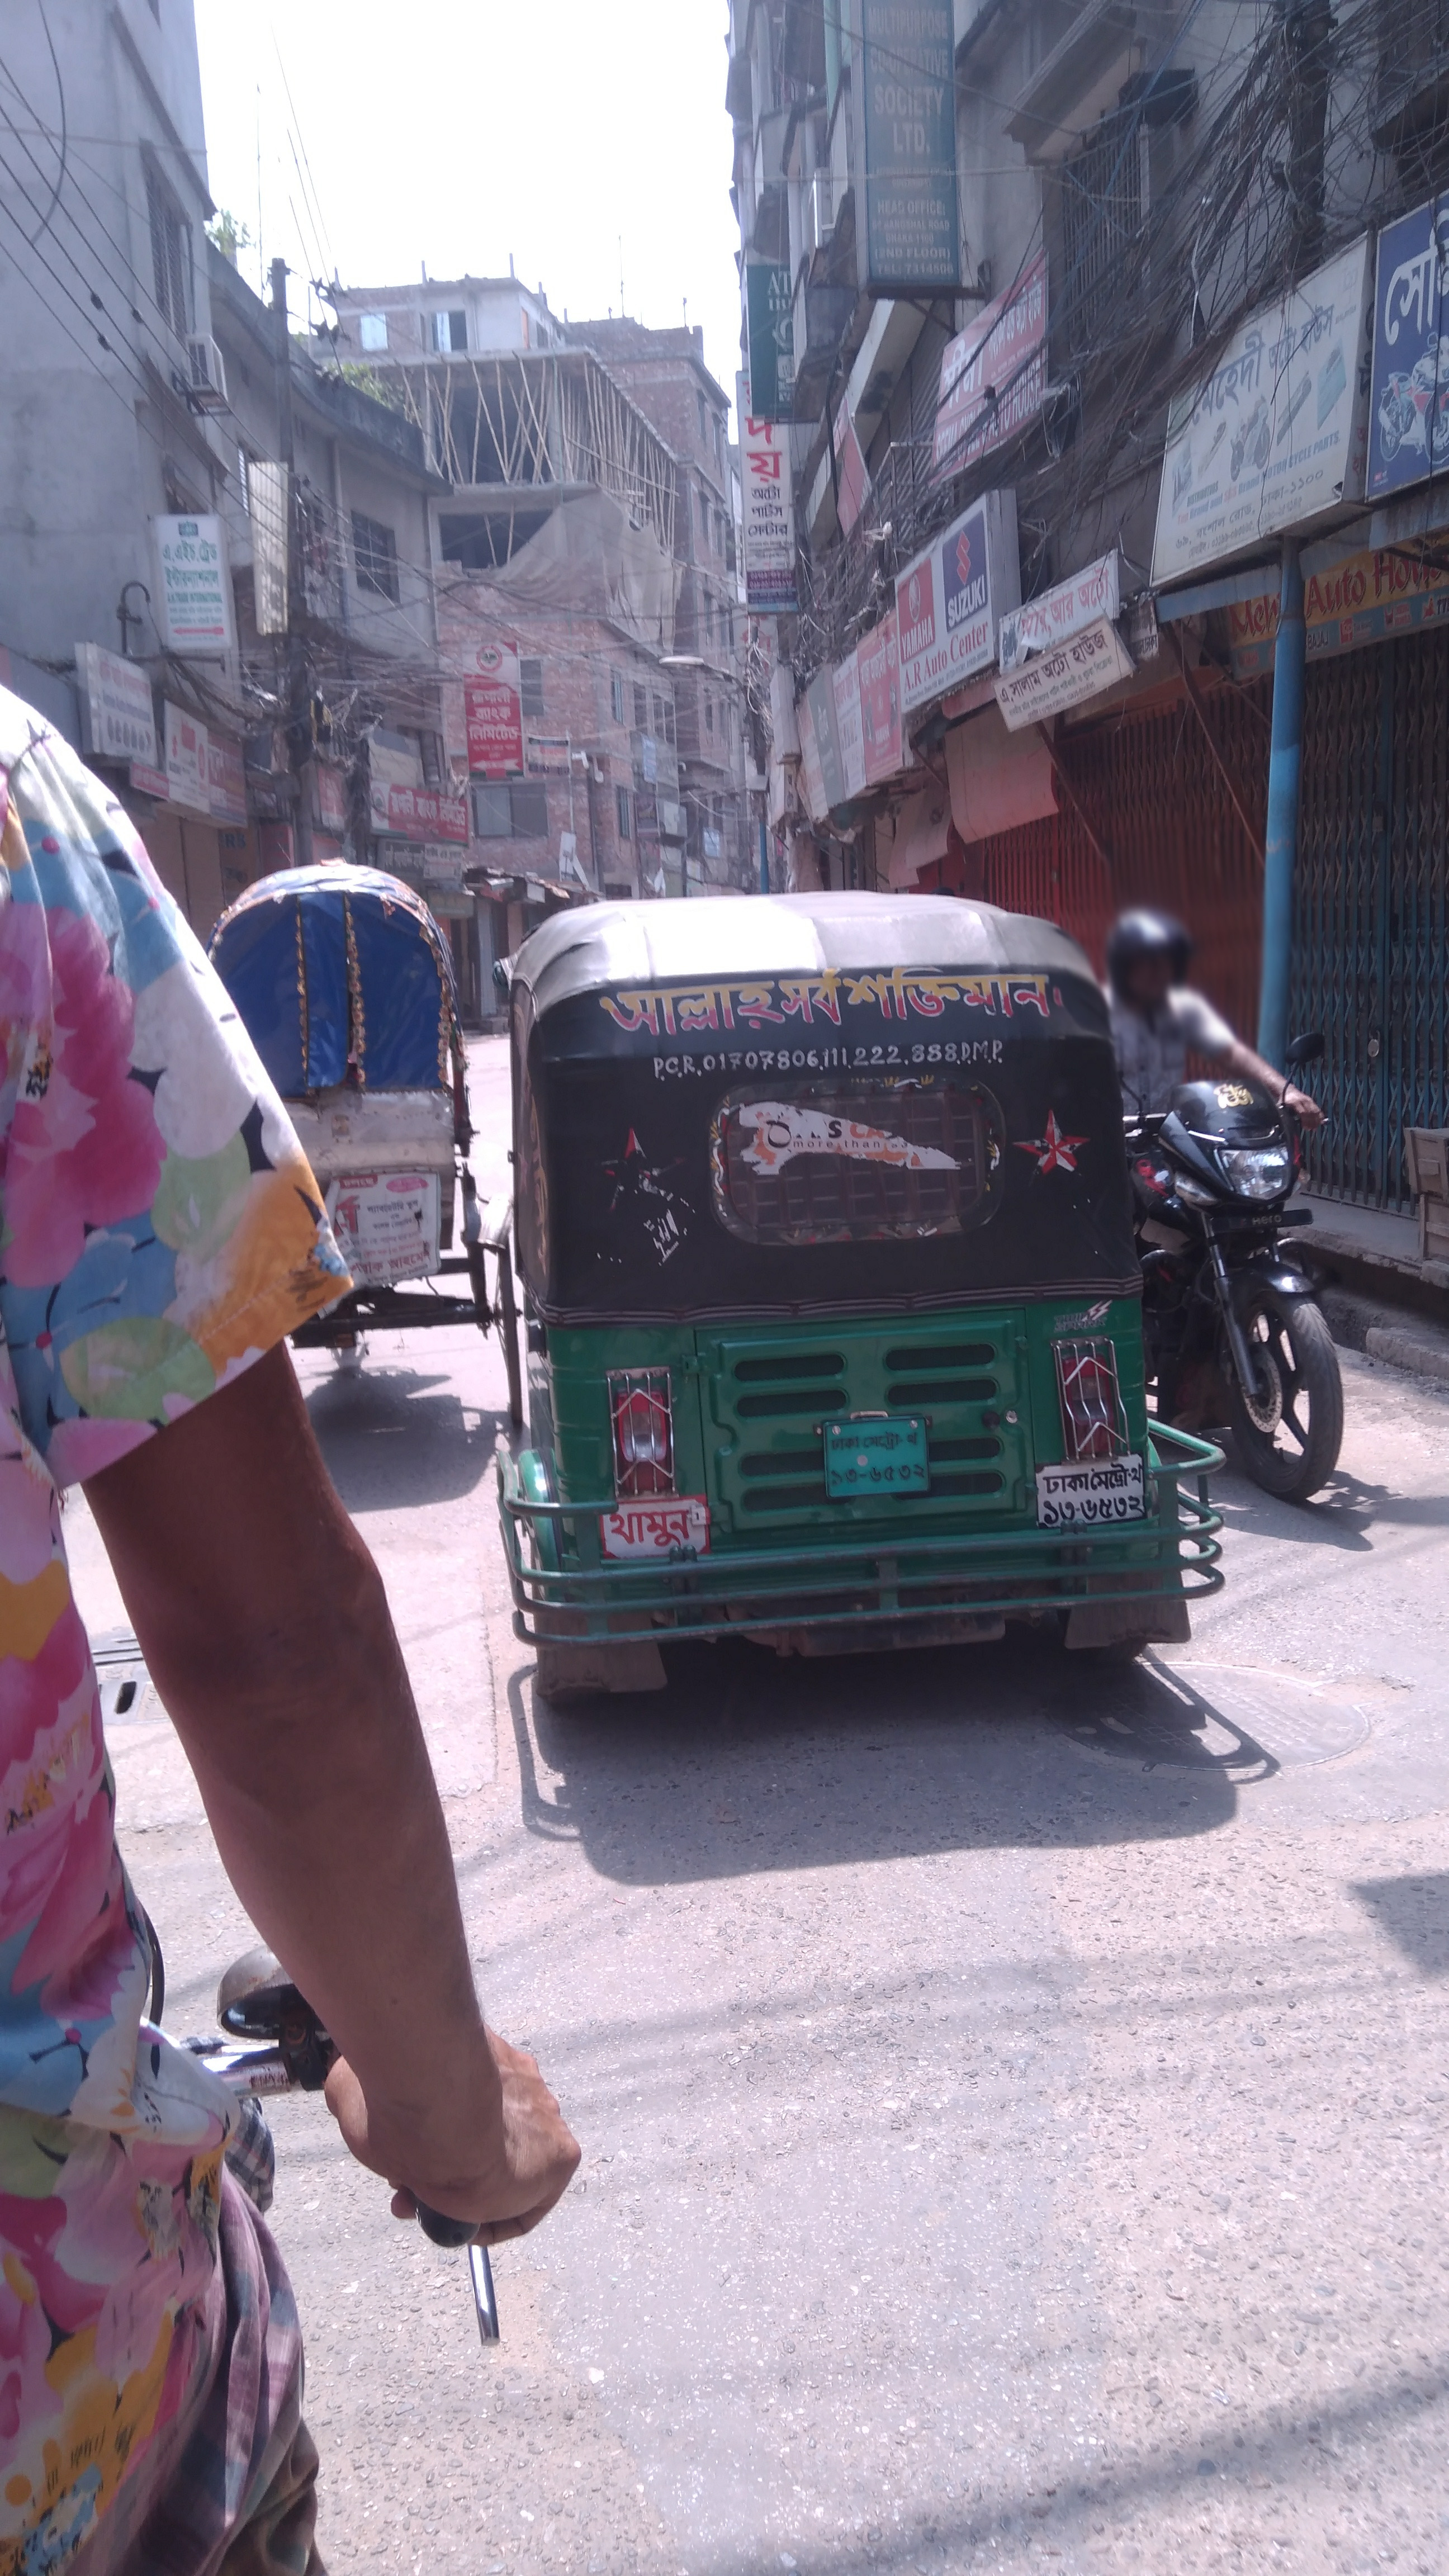bike: (1090, 878, 1373, 1518)
cng: (467, 867, 1240, 1732)
rickshaw: (180, 819, 545, 1493)
